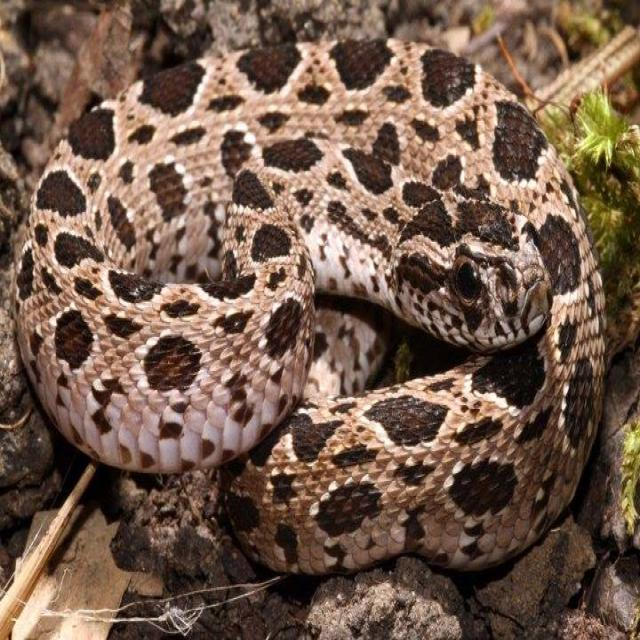Snake: (11, 32, 608, 578)
